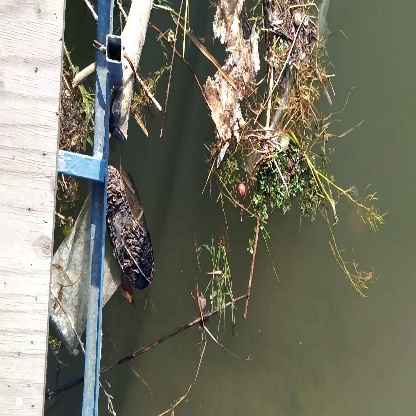plastic-garbage: (107, 165, 161, 290)
